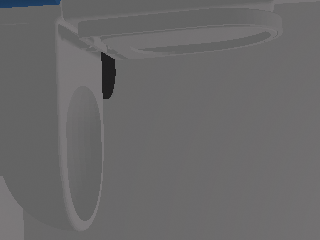lid_1: (79, 9, 283, 62)
